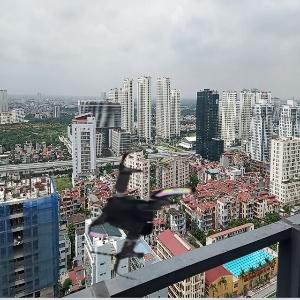drone: (76, 145, 219, 288)
